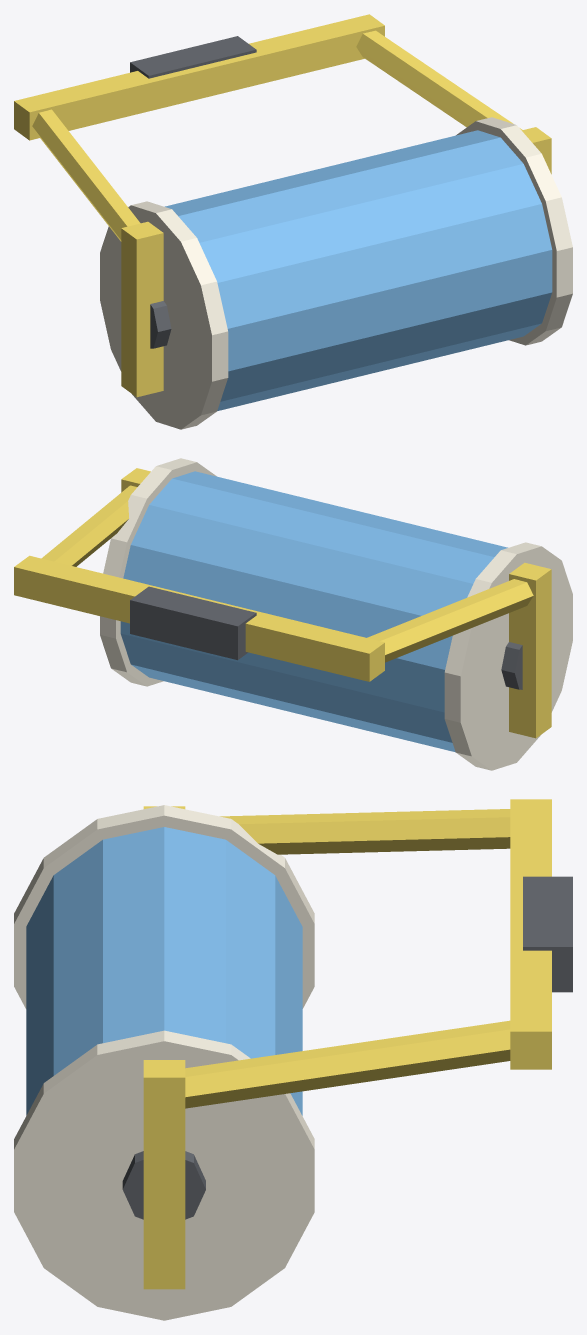
Rendered from lawn-mowing-simulator-kit-lawn-stripe-roller-867a3ad6.glb.
The picture shows the model from 3 angles, top to bottom: view 1: azimuth 30°, elevation 25°; view 2: azimuth 150°, elevation 25°; view 3: azimuth 270°, elevation 25°; orthographic projection. The views are drawn at different scales.
Visible parts, largest first — view 1: wheel-drum/blue, lawn-stripe-roller, wheel-drum/cream, wheel-drum/dark; view 2: wheel-drum/blue, lawn-stripe-roller, wheel-drum/cream, wheel-drum/dark; view 3: wheel-drum/cream, wheel-drum/blue, lawn-stripe-roller, wheel-drum/dark.
Part boxes in pixels (box(x1,y1,x2,y2)): wheel-drum/blue: box(165, 130, 552, 410); lawn-stripe-roller: box(14, 14, 551, 397); wheel-drum/cream: box(100, 117, 572, 429); wheel-drum/dark: box(150, 301, 171, 348); wheel-drum/blue: box(120, 471, 507, 752); lawn-stripe-roller: box(14, 468, 551, 738); wheel-drum/cream: box(100, 458, 572, 770); wheel-drum/dark: box(501, 642, 522, 689); wheel-drum/cream: box(14, 805, 314, 1320); wheel-drum/blue: box(26, 827, 302, 1115); lawn-stripe-roller: box(143, 799, 572, 1289); wheel-drum/dark: box(122, 1151, 205, 1219).
Size of the model in its own units: 0.77 by 0.385 by 0.6704.
